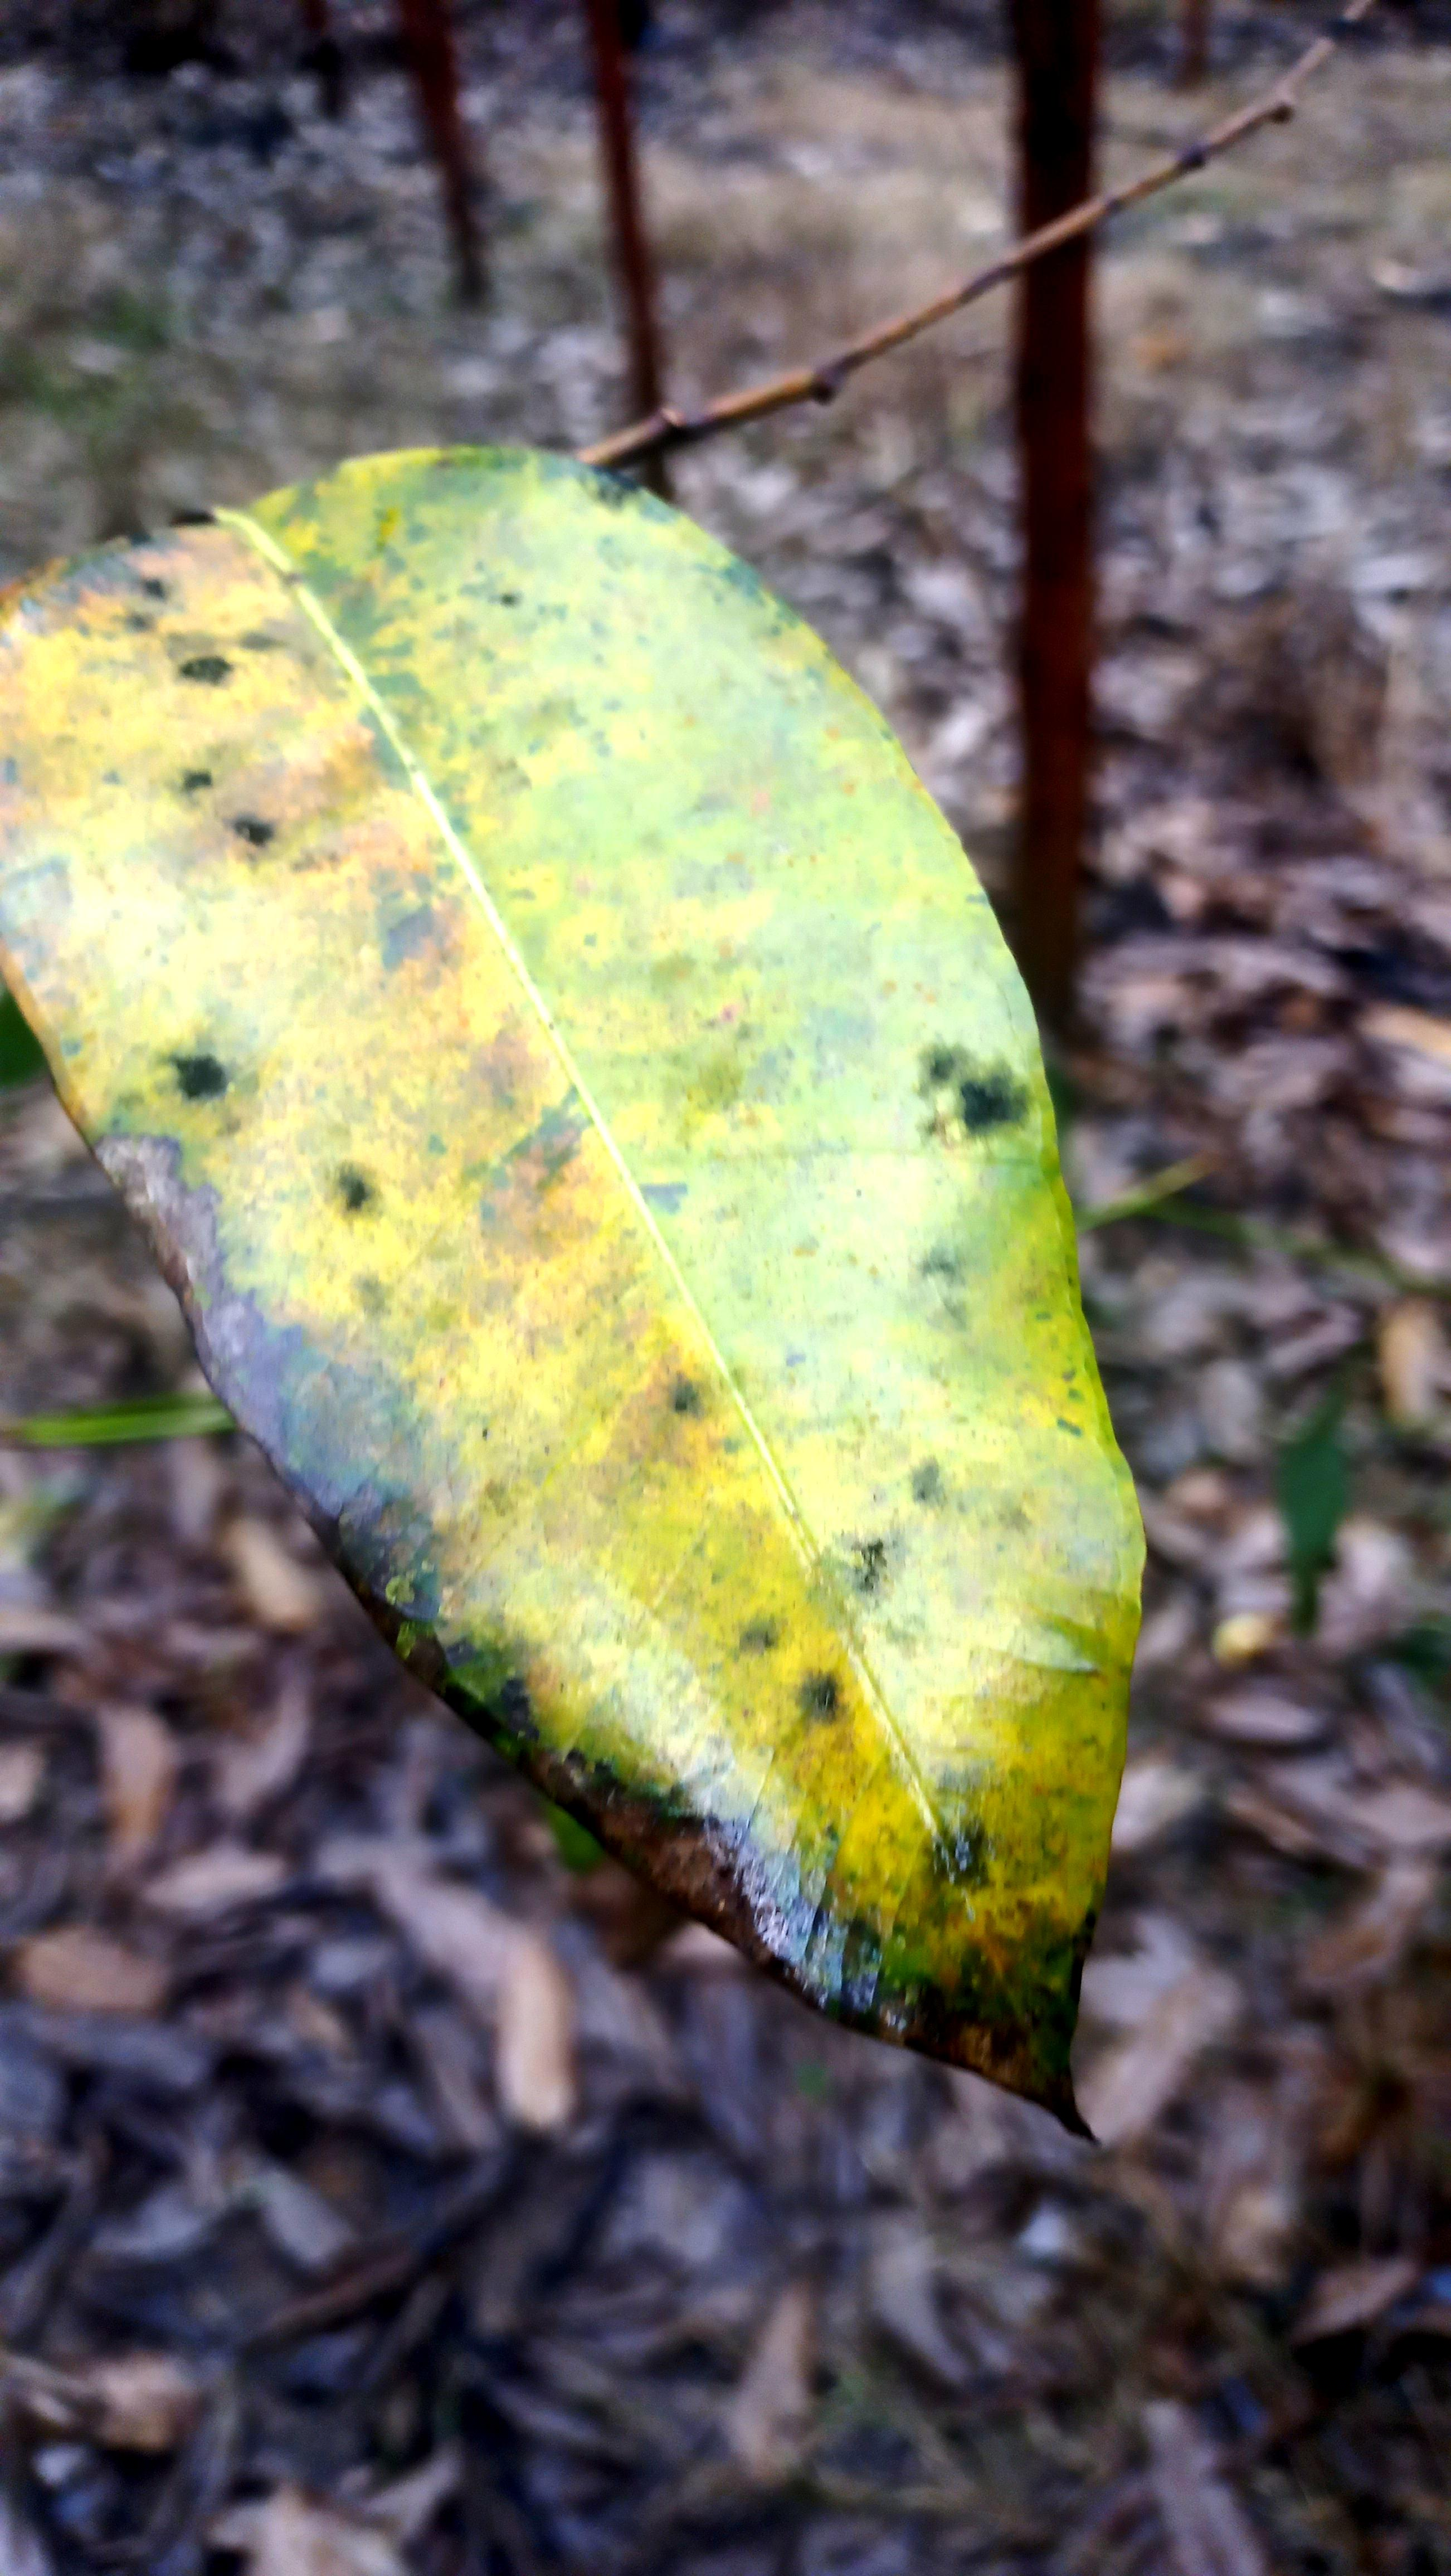Cylindrocladium: (209, 1440, 1101, 2242)
Embun Jelaga: (0, 433, 1148, 2141)
